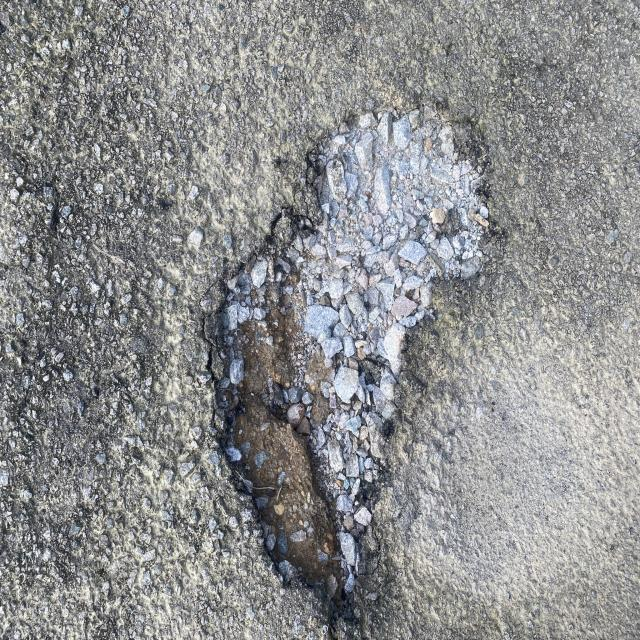Pothole: (177, 49, 494, 640)
